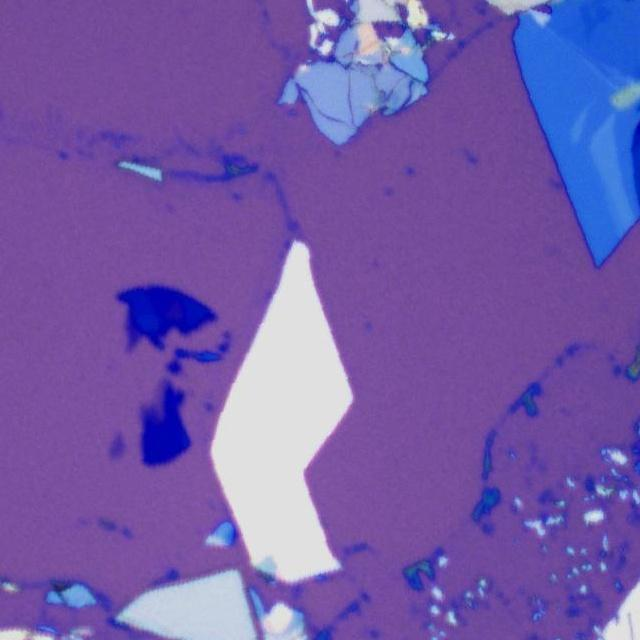monolayer-eWW4: (150, 379, 165, 418), (108, 431, 126, 460)
